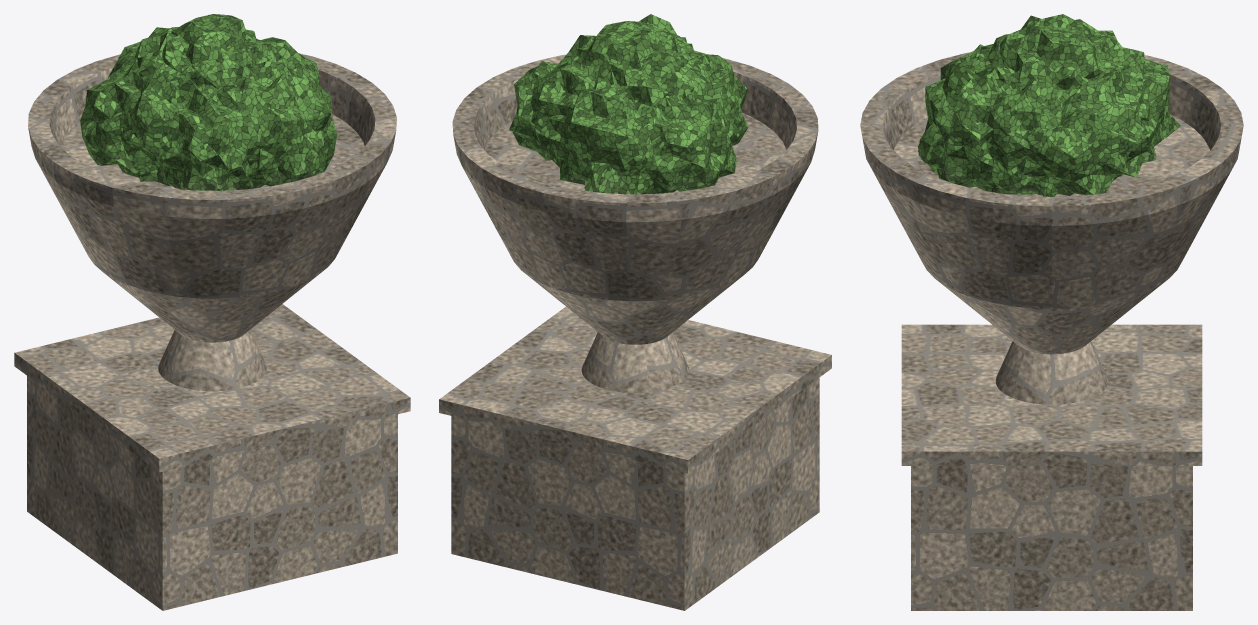
3 renders of one model, left to right at view 1: azimuth 30°, elevation 25°; view 2: azimuth 150°, elevation 25°; view 3: azimuth 270°, elevation 25°, orthographic. The views are drawn at different scales.
Parts seen in each view (by area): view 1: baseOffset=0;diameter=1.2;height=1.5;material=stone_wall;pow (×2); view 2: baseOffset=0;diameter=1.2;height=1.5;material=stone_wall;pow (×2); view 3: baseOffset=0;diameter=1.2;height=1.5;material=stone_wall;pow (×2).
Boxes of the visible parts, <box> form: baseOffset=0;diameter=1.2;height=1.5;material=stone_wall;pow (×2): <box>14,14,410,610</box>; baseOffset=0;diameter=1.2;height=1.5;material=stone_wall;pow (×2): <box>439,14,831,610</box>; baseOffset=0;diameter=1.2;height=1.5;material=stone_wall;pow (×2): <box>860,14,1243,610</box>.
Size of the model in its own units: 1.22 by 1.22 by 1.87.
Materials: 2 (2 with a texture image).
